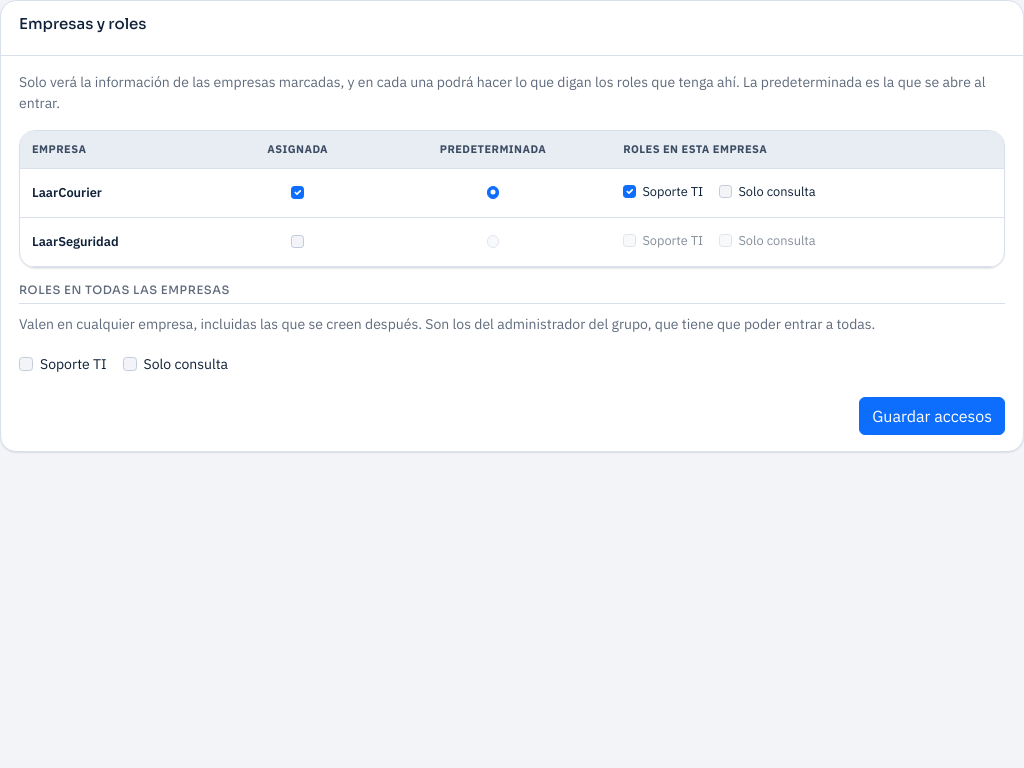
Test: Asignación de empresas y roles a un usuario › avisa de cambios sin guardar hasta que se guardan
What coordinates should you click on to do the following:
click the checkbox named "Asignar LaarSeguridad"
I would click on:
 (298, 242)
Its box is [291, 235, 304, 248].
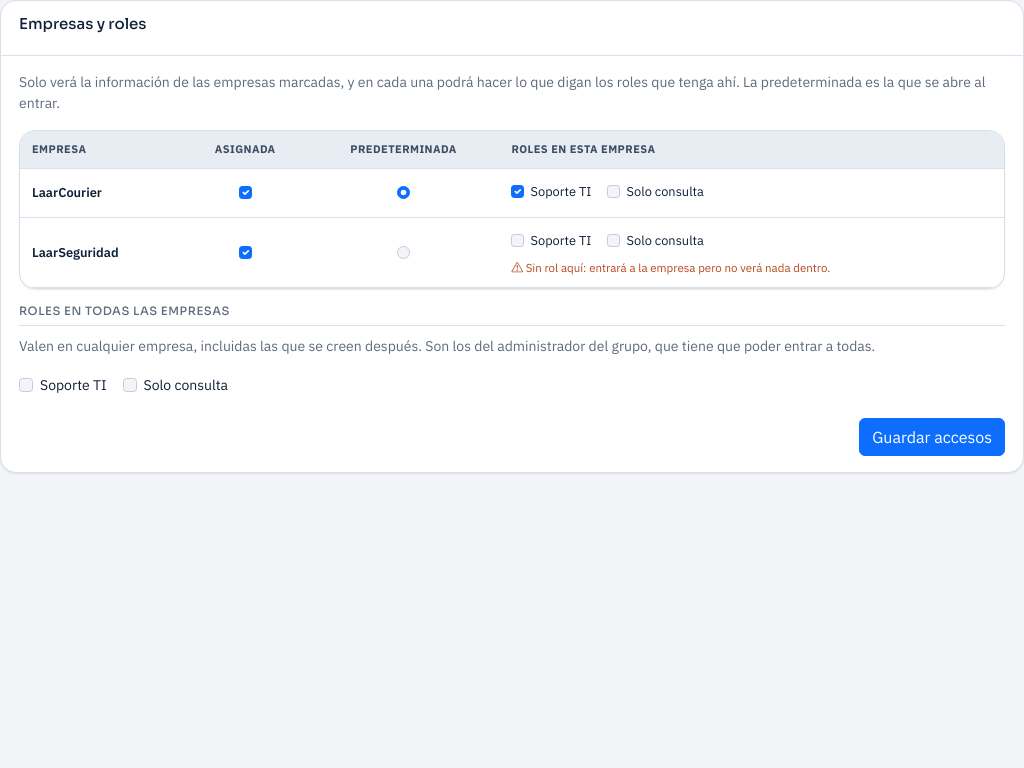
What coordinates should you click on to do the following:
click the button "Guardar accesos"
I would click on:
 (932, 437)
Its box is [859, 418, 1005, 456].
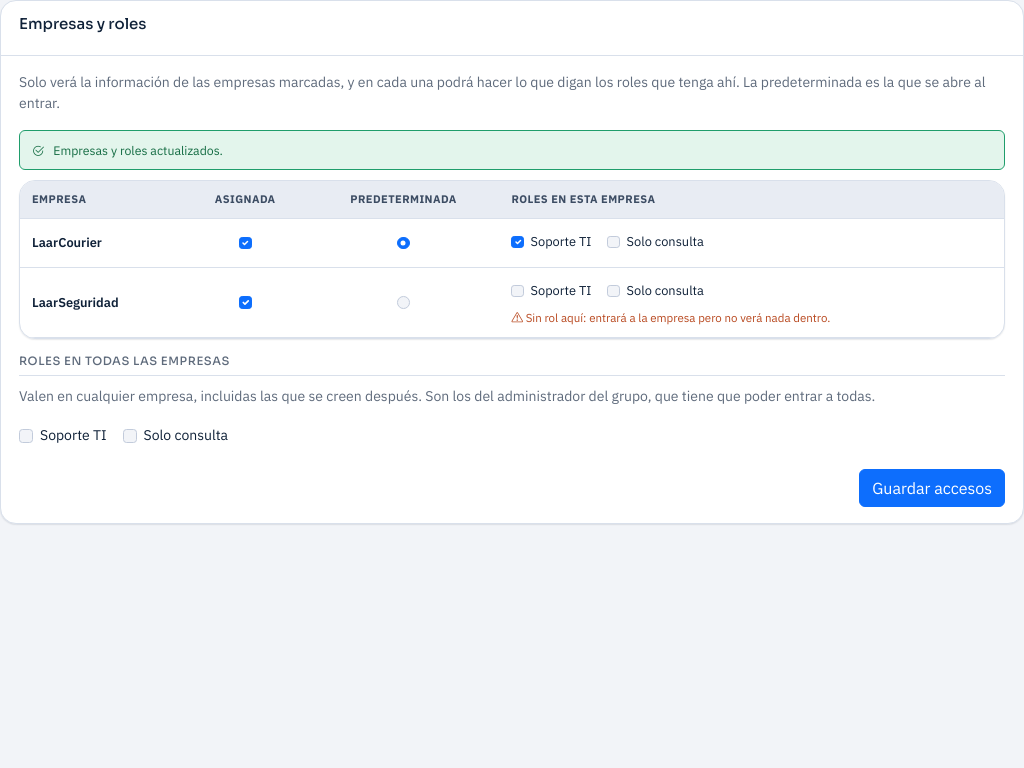
Expected: the message reads "Empresas y roles actualizados.", [53, 142, 223, 158]
